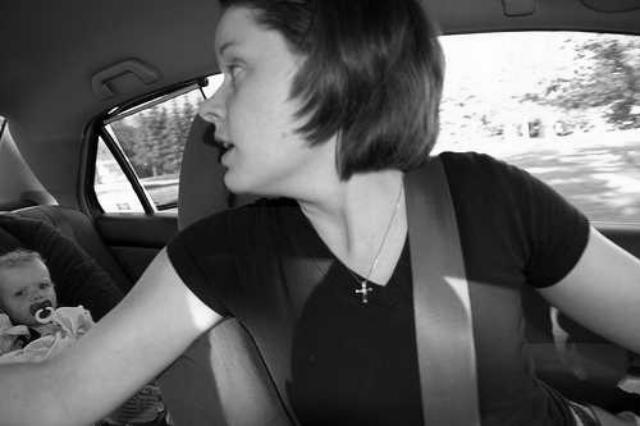Seatbelt: (397, 155, 486, 426)
